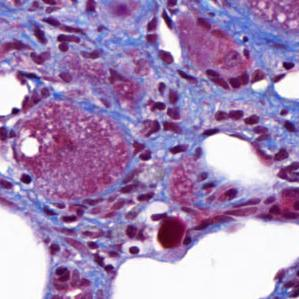inflammation: (140, 9, 185, 66), (140, 210, 195, 253), (246, 69, 273, 92)
